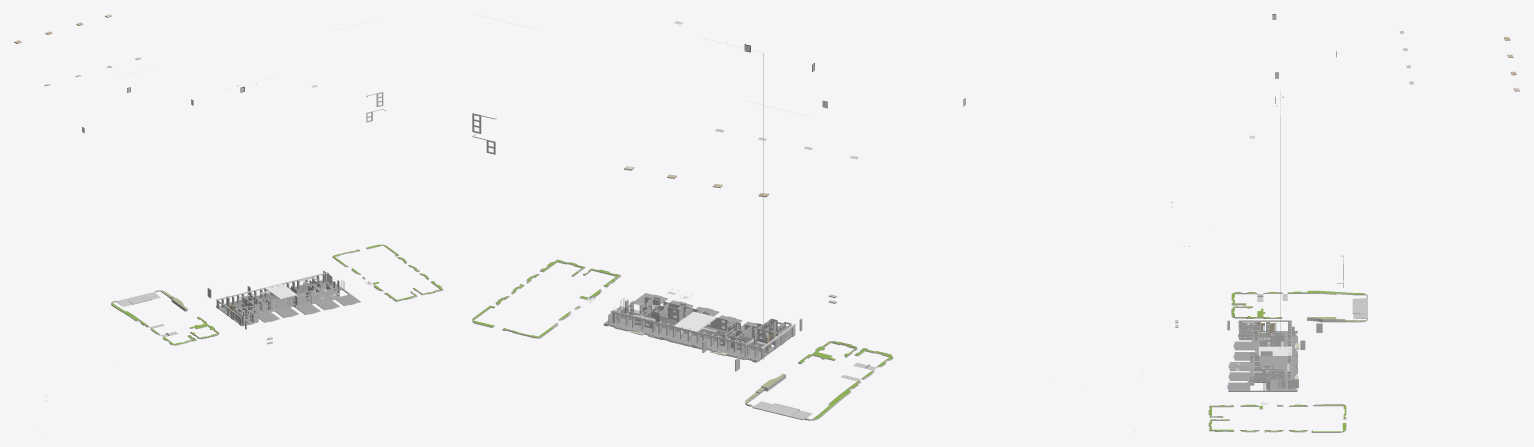
The model's file is legacy-towers.glb.
3 views of the same model, side by side, from view 1: azimuth 30°, elevation 25°; view 2: azimuth 150°, elevation 25°; view 3: azimuth 270°, elevation 25° (orthographic). The views are drawn at different scales.
Parts seen in each view (by area): view 1: Node1, Node4185, Node34, Node4750, Node4861; view 2: Node1, Node4185, Node34, Node4750, Node4861; view 3: Node1, Node4185, Node34, Node4750.
Part boxes in pixels (x1,y1,x2,y2): Node1: (44,57,443,401); Node4185: (216,281,360,326); Node34: (111,244,442,344); Node4750: (216,272,327,318); Node4861: (224,277,344,313); Node1: (472,21,1142,432); Node4185: (603,293,791,362); Node34: (472,260,892,419); Node4750: (611,311,795,349); Node4861: (620,298,777,353); Node1: (1171,31,1413,432); Node4185: (1227,331,1299,391); Node34: (1209,291,1365,431); Node4750: (1239,320,1291,380).
Bounding box in the file's own units: 12291 × 7244 × 8087.
